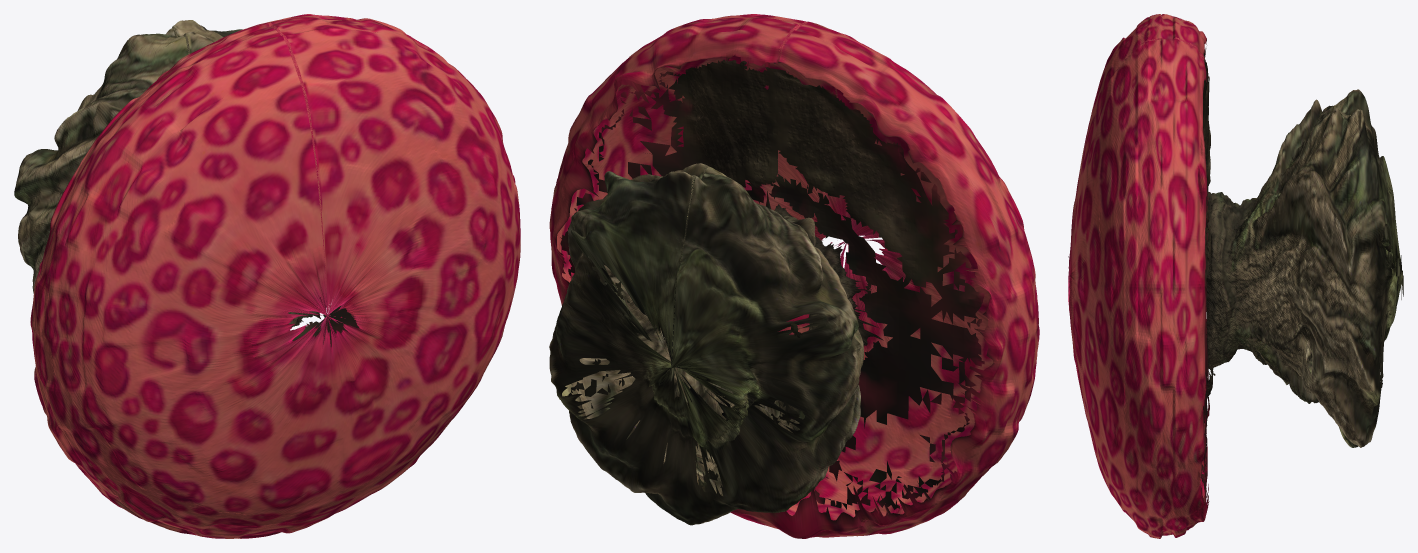
Rendered from mesh_inpaint.glb.
3 views of the same model, side by side, from view 1: azimuth 30°, elevation 25°; view 2: azimuth 150°, elevation 25°; view 3: azimuth 270°, elevation 25° (orthographic). The views are drawn at different scales.
Visible parts, largest first — view 1: ipn, fill; view 2: ipn, fill; view 3: ipn, fill.
Part boxes in pixels (box(x1,y1,x2,y2)): ipn: box(14, 14, 520, 538); fill: box(292, 305, 359, 346); ipn: box(549, 14, 1039, 538); fill: box(560, 59, 984, 509); ipn: box(1068, 14, 1403, 538); fill: box(1201, 48, 1395, 504).
Size of the model in its own units: 1.98 by 1.99 by 1.27.
2 materials, 1 textured.
